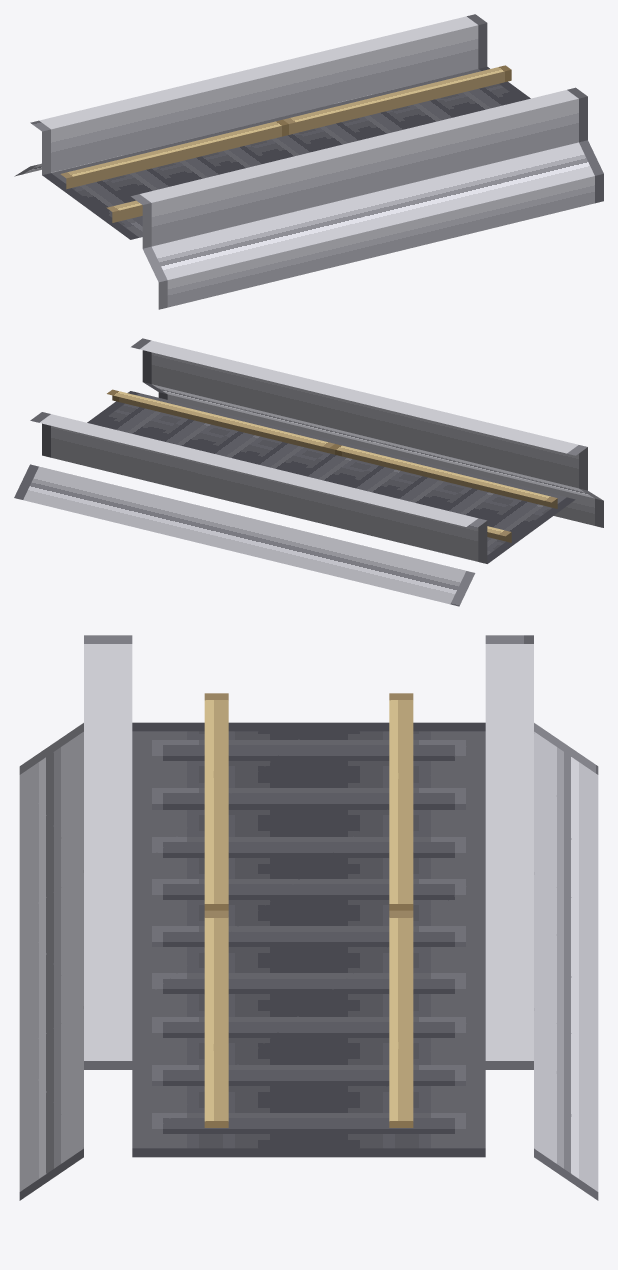
File: train-tracks.glb
3 views of the same model, one above another, from view 1: azimuth 30°, elevation 25°; view 2: azimuth 150°, elevation 25°; view 3: azimuth 270°, elevation 25° (orthographic). The views are drawn at different scales.
Visible parts, largest first — view 1: Benches; view 2: Benches; view 3: Benches.
Part boxes in pixels (bbox=[...]): Benches: bbox=[14, 14, 603, 309]; Benches: bbox=[14, 338, 603, 606]; Benches: bbox=[19, 635, 598, 1200].
Size of the model in its own units: 128 by 25.53 by 72.
Materials: 1 (1 with a texture image).
